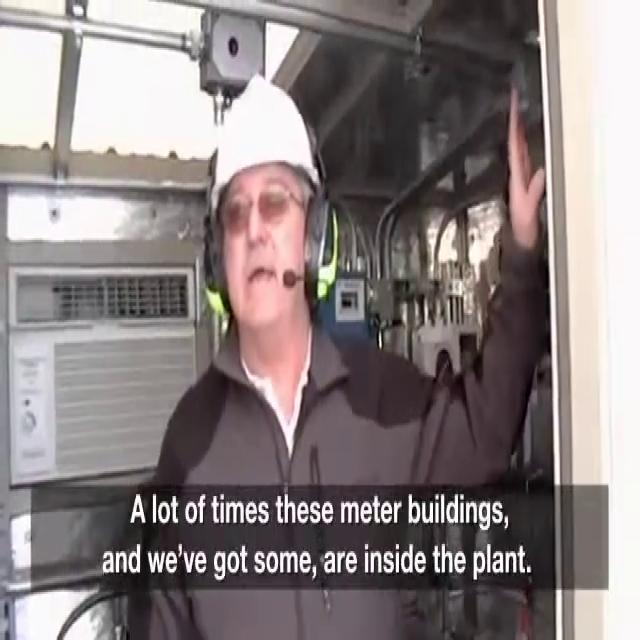earmuff: (300, 180, 342, 314), (200, 201, 237, 323)
glasses: (216, 174, 310, 236)
helmet: (207, 65, 323, 226)
